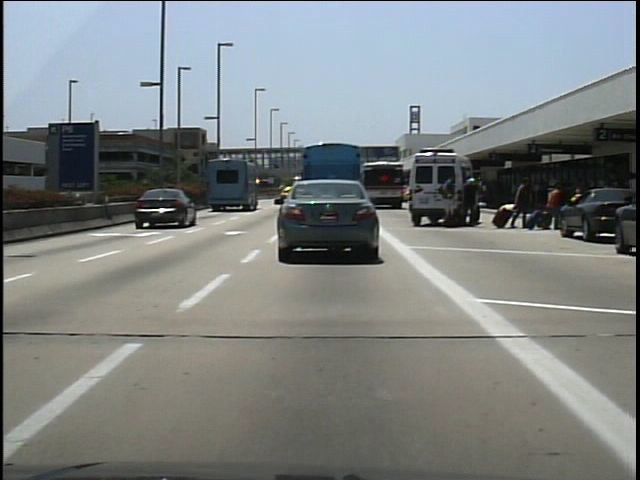person: (510, 175, 534, 234), (437, 169, 460, 229), (458, 174, 482, 229), (544, 180, 567, 233)
